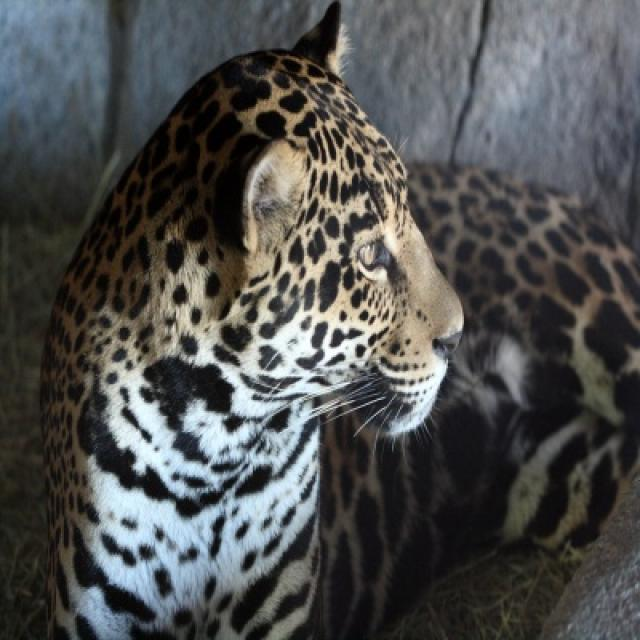Jaguar: (38, 2, 638, 638)
